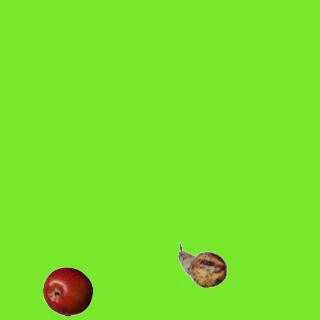Apple Braeburn: (42, 266, 92, 316)
Pear Abate: (177, 240, 227, 290)
